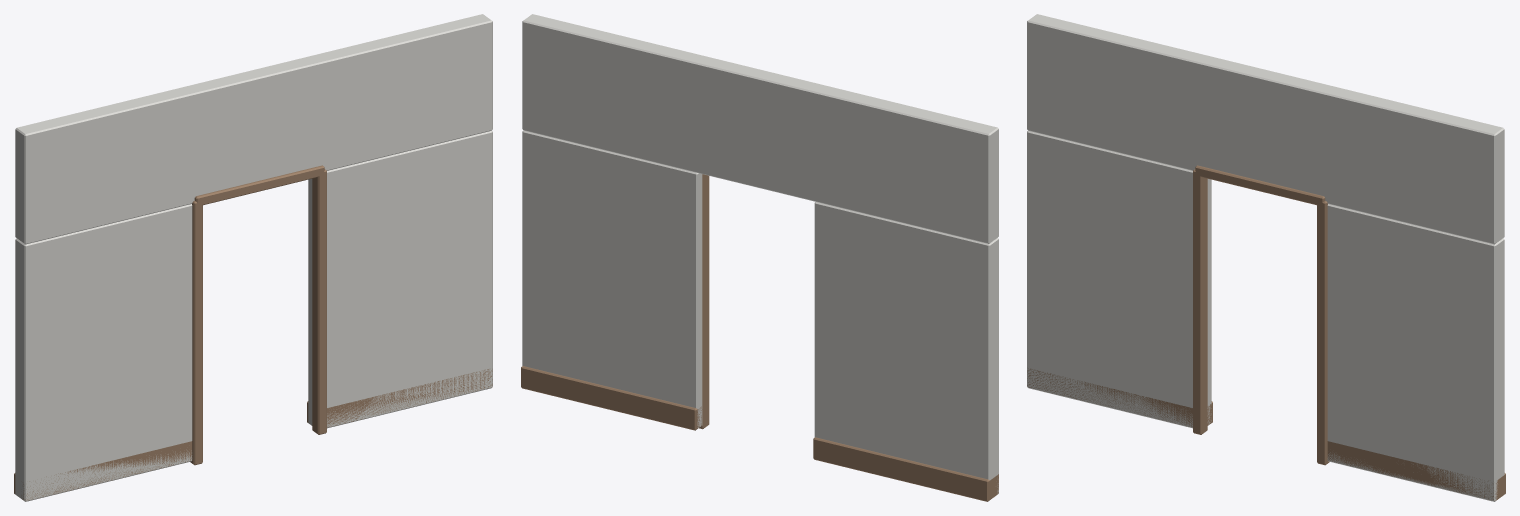
File: SM_Wall_Interior_Door.fbx
3 renders of one model, left to right at view 1: azimuth 30°, elevation 25°; view 2: azimuth 150°, elevation 25°; view 3: azimuth 330°, elevation 25°, orthographic.
Parts seen in each view (by area): view 1: Wall_Interior_Door; view 2: Wall_Interior_Door; view 3: Wall_Interior_Door.
Boxes of the visible parts, <box> form: Wall_Interior_Door: <box>14,14,492,501</box>; Wall_Interior_Door: <box>521,14,998,501</box>; Wall_Interior_Door: <box>1027,14,1505,501</box>.
Bounding box in the file's own units: 400 × 303 × 19.5.
